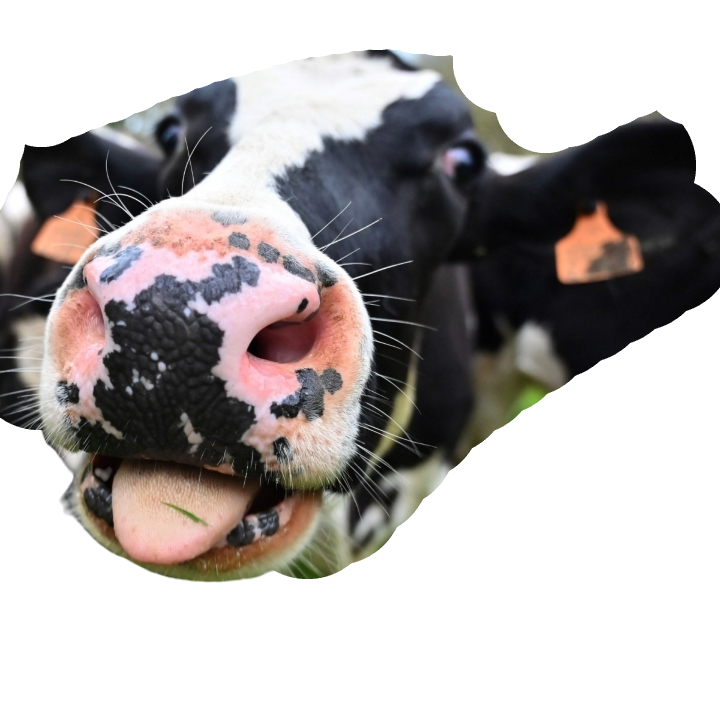Cow: (30, 44, 701, 578)
